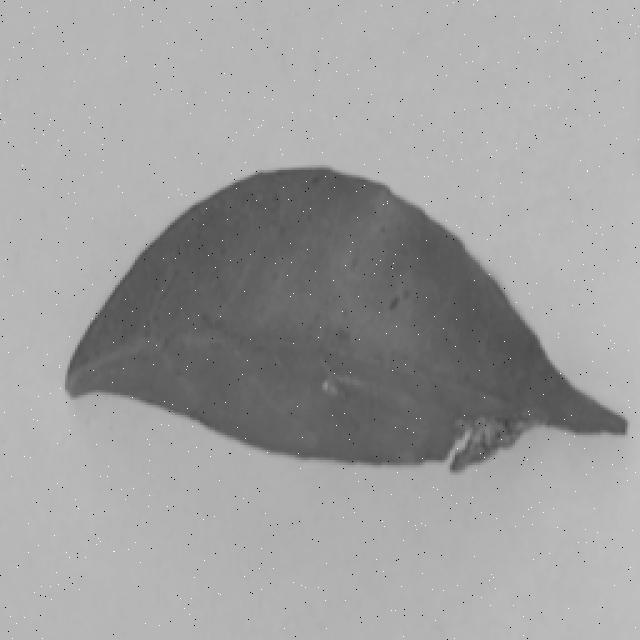greening: (63, 156, 628, 490)
